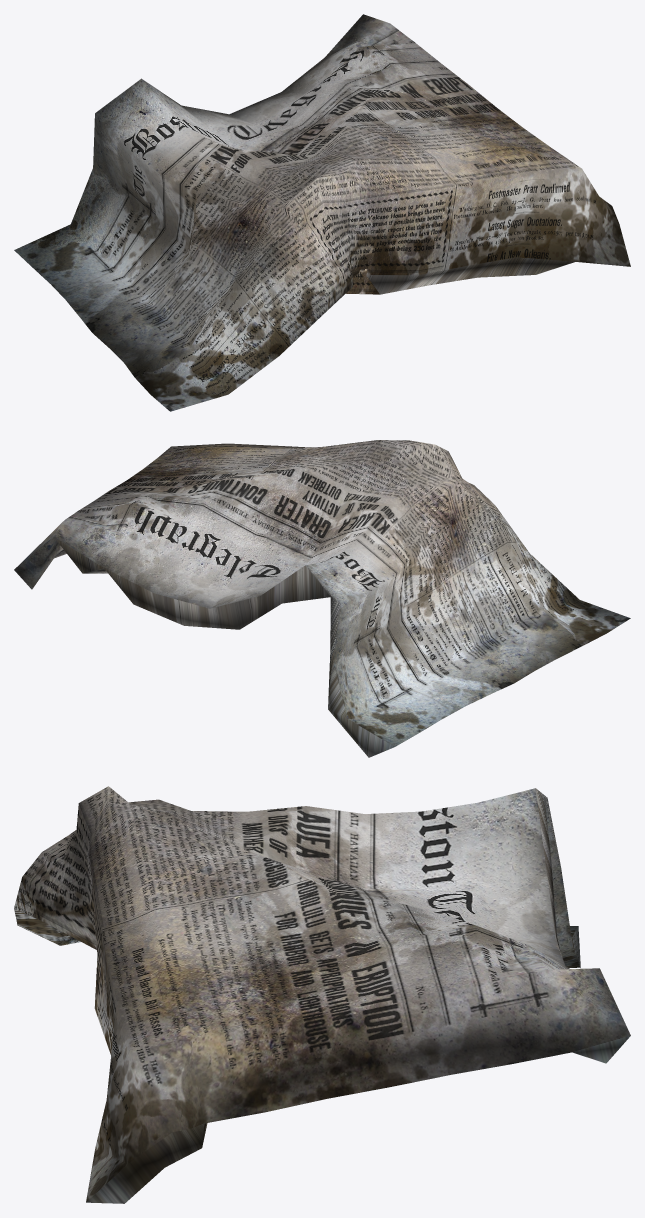
File: NewsPaper.fbx
The picture shows the model from 3 angles, top to bottom: view 1: azimuth 30°, elevation 25°; view 2: azimuth 150°, elevation 25°; view 3: azimuth 270°, elevation 25°; orthographic projection. The views are drawn at different scales.
Parts seen in each view (by area): view 1: Plane; view 2: Plane; view 3: Plane.
Part boxes in pixels (x1=…): Plane: x1=14, y1=14, x2=630, y2=411; Plane: x1=14, y1=440, x2=630, y2=757; Plane: x1=14, y1=786, x2=630, y2=1203.
Bounding box in the file's own units: 5.38 × 1.95 × 4.32.
